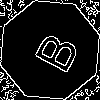B: (25, 25, 81, 76)
